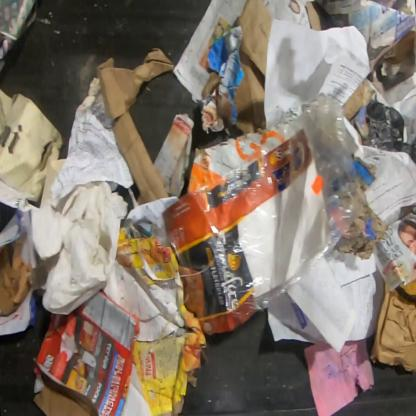cardboard: (101, 223, 208, 415), (30, 289, 141, 415), (160, 190, 254, 335), (96, 45, 176, 206), (0, 89, 66, 201), (186, 127, 274, 193), (230, 0, 273, 134), (369, 278, 415, 374), (153, 112, 196, 200), (343, 78, 377, 140), (305, 2, 322, 31), (289, 0, 300, 14)
soft_plastic: (190, 93, 367, 317), (148, 222, 219, 338)
